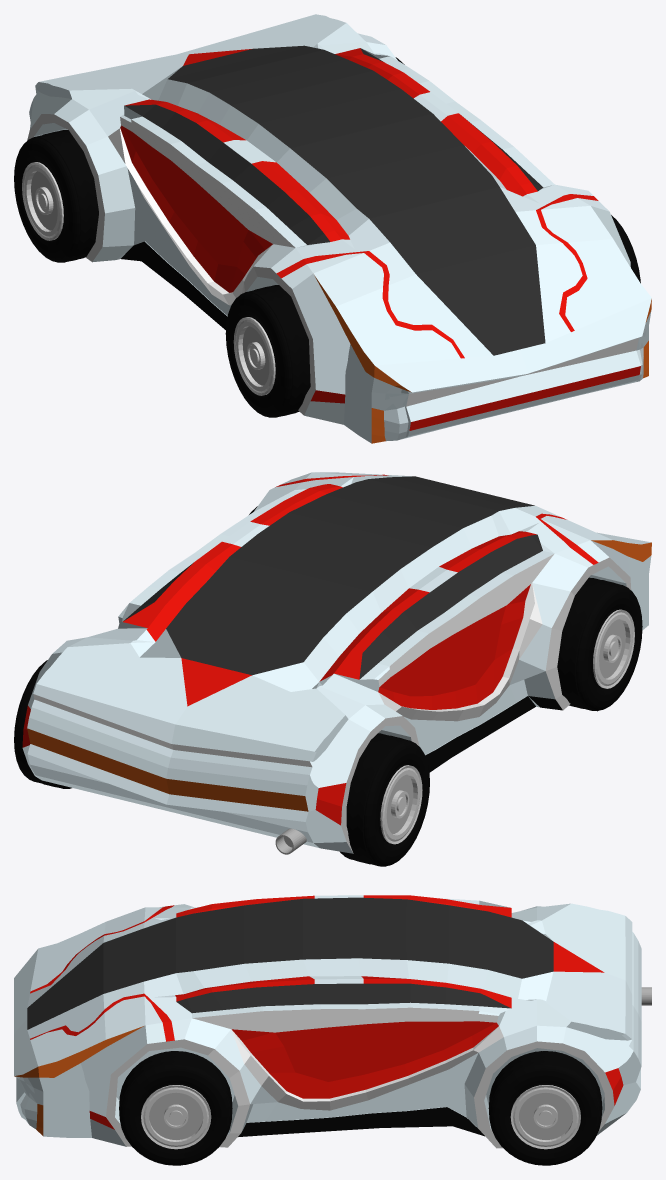
The picture shows the model from 3 angles, top to bottom: view 1: azimuth 30°, elevation 25°; view 2: azimuth 150°, elevation 25°; view 3: azimuth 270°, elevation 25°; orthographic projection. The views are drawn at different scales.
Visible parts, largest first — view 1: BODY41B, WHEEL.001, WHEEL.004; view 2: BODY41B, WHEEL.004, WHEEL.001, WHEEL.002, SHACMAN; view 3: BODY41B, WHEEL.002, WHEEL.003.
Boxes of the visible parts, x1,y1,x2,y2 form: BODY41B: (27,14,651,443); WHEEL.001: (225,285,310,417); WHEEL.004: (14,130,98,262); BODY41B: (22,472,651,853); WHEEL.004: (340,733,429,866); WHEEL.001: (557,577,642,711); WHEEL.002: (14,660,71,788); SHACMAN: (275,828,306,854); BODY41B: (14,895,641,1148); WHEEL.002: (488,1051,602,1165); WHEEL.003: (119,1051,232,1165).
Size of the model in its own units: 134 by 67.41 by 236.
